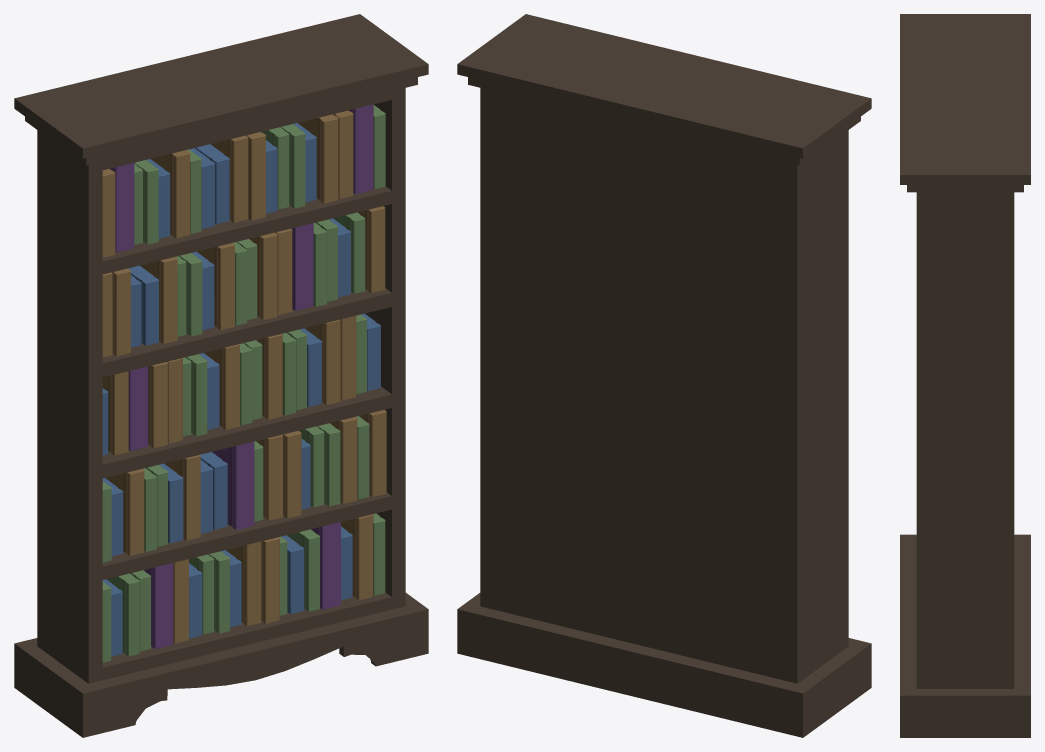
The model's file is booksfilled.fbx.
The picture shows the model from 3 angles, left to right: view 1: azimuth 30°, elevation 25°; view 2: azimuth 150°, elevation 25°; view 3: azimuth 270°, elevation 25°; orthographic projection. The views are drawn at different scales.
Parts seen in each view (by area): view 1: mainPiece, bookM, bookS, topPiece, bookXS, bottomPiece, bookL; view 2: mainPiece, topPiece, bottomPiece; view 3: mainPiece, topPiece, bottomPiece.
Part boxes in pixels (<box>): mainPiece: <box>37,88,405,683</box>; bookM: <box>102,110,386,643</box>; bookS: <box>102,105,385,662</box>; topPiece: <box>14,14,428,165</box>; bookXS: <box>102,123,380,656</box>; bottomPiece: <box>14,593,428,737</box>; bookL: <box>110,104,373,648</box>; mainPiece: <box>480,88,848,683</box>; topPiece: <box>457,14,871,165</box>; bottomPiece: <box>457,593,871,737</box>; mainPiece: <box>916,192,1014,688</box>; topPiece: <box>900,14,1030,192</box>; bottomPiece: <box>900,534,1030,737</box>.
Size of the model in its own units: 127 by 207 by 43.68.
